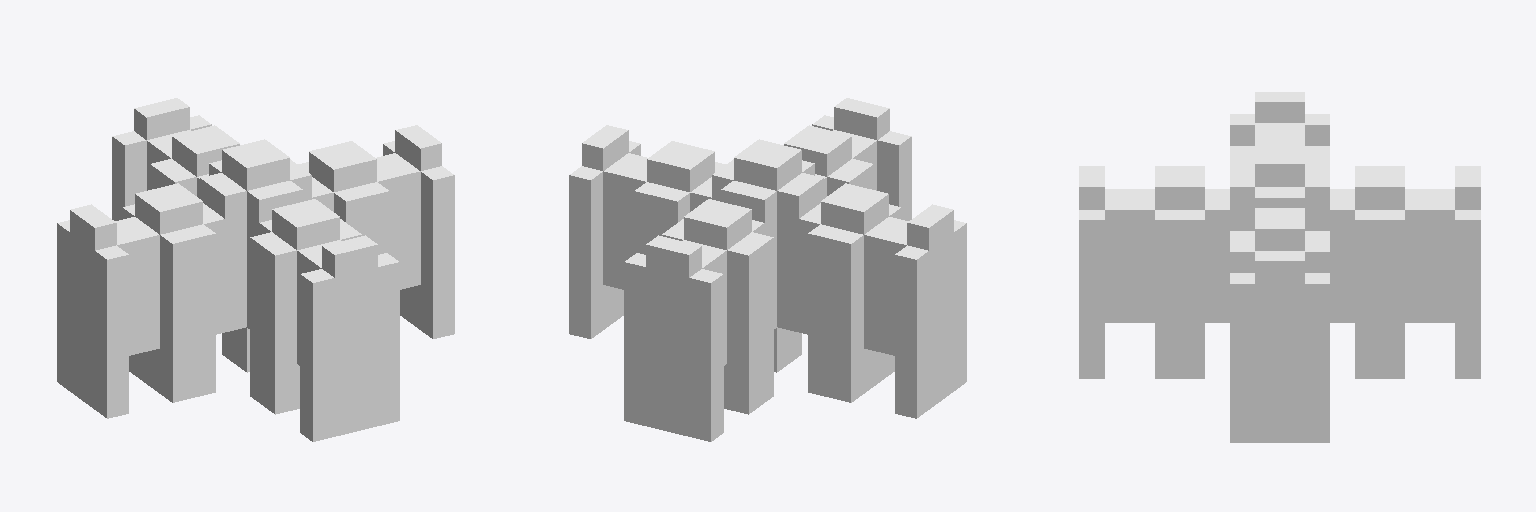
File: Dungeon-12-Fence-4way.obj
The picture shows the model from 3 angles: view 1: azimuth 30°, elevation 25°; view 2: azimuth 150°, elevation 25°; view 3: azimuth 270°, elevation 25°; orthographic projection.
Visible parts, largest first — view 1: Fence-4way; view 2: Fence-4way; view 3: Fence-4way.
Boxes of the visible parts, box(x1,y1,x2,y2) form: Fence-4way: box(57, 98, 454, 441); Fence-4way: box(569, 98, 966, 441); Fence-4way: box(1079, 92, 1480, 442).
Bounding box in the file's own units: 1.6 × 0.9 × 1.6.